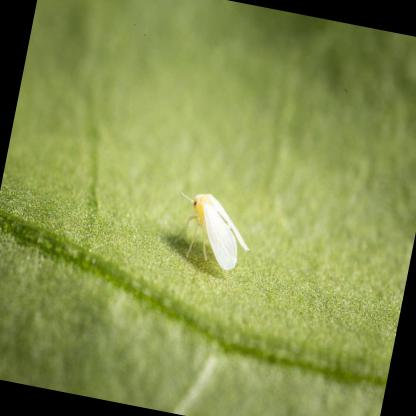whitefly: (192, 193, 248, 270)
